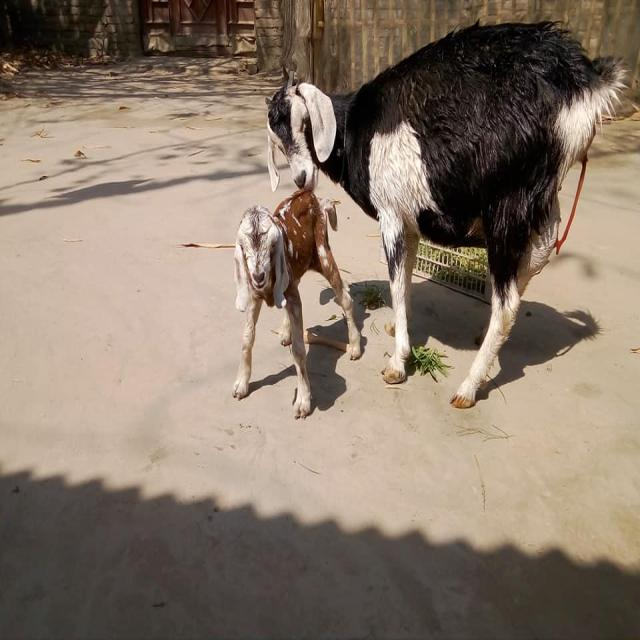not_pig: (265, 17, 629, 409), (231, 186, 363, 420)
